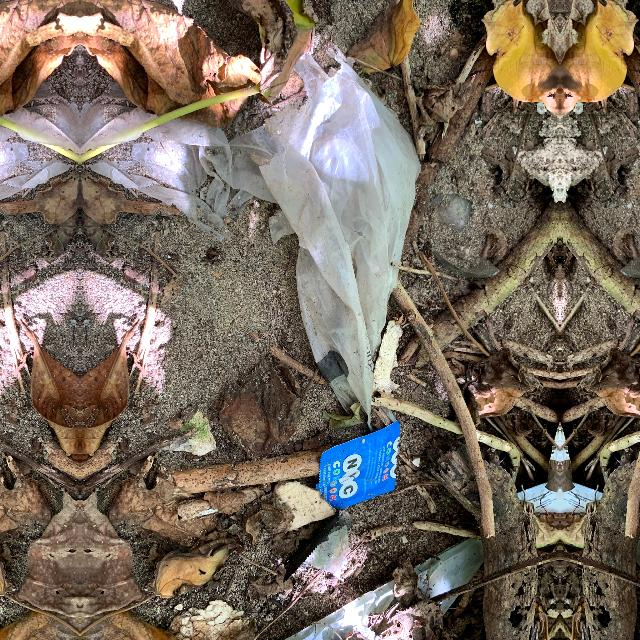Plastic: (80, 35, 434, 433), (0, 35, 80, 433), (302, 406, 416, 532)
